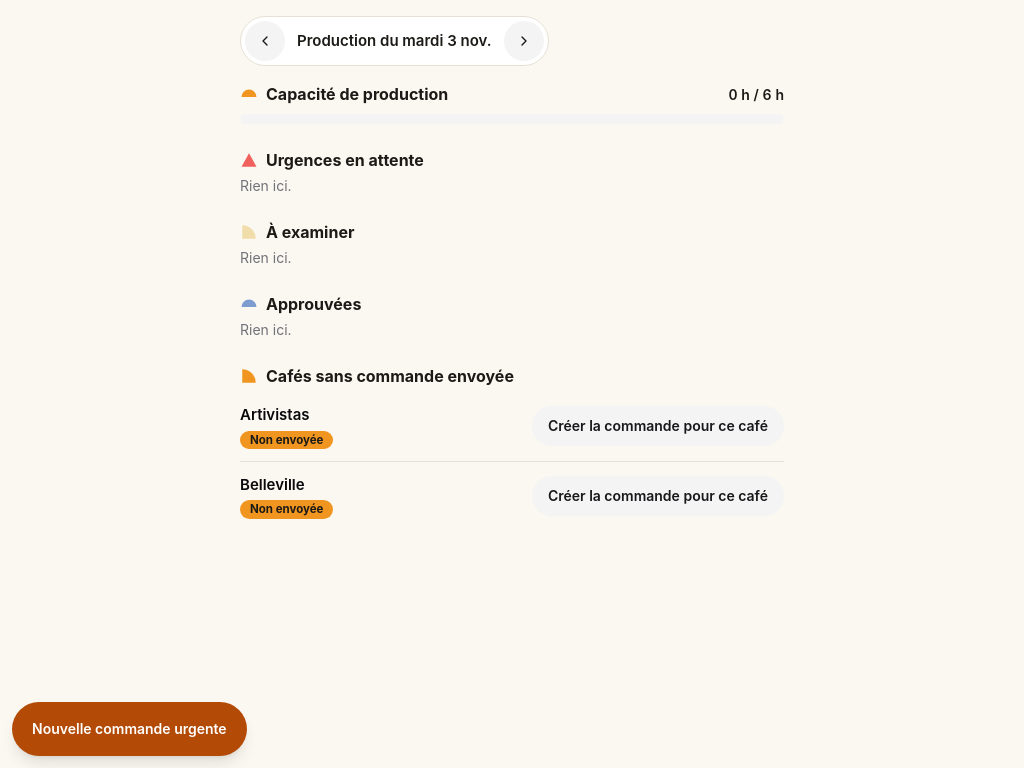
Test: StoresReview › round picker › steps previous/next and returns to the default with Prochaine
The width and height of the screenshot is (1024, 768).
Check: the button "Prochaine" is not shown
Click the button named "Tournée suivante". click: (524,41)
box: [504,21,544,61]
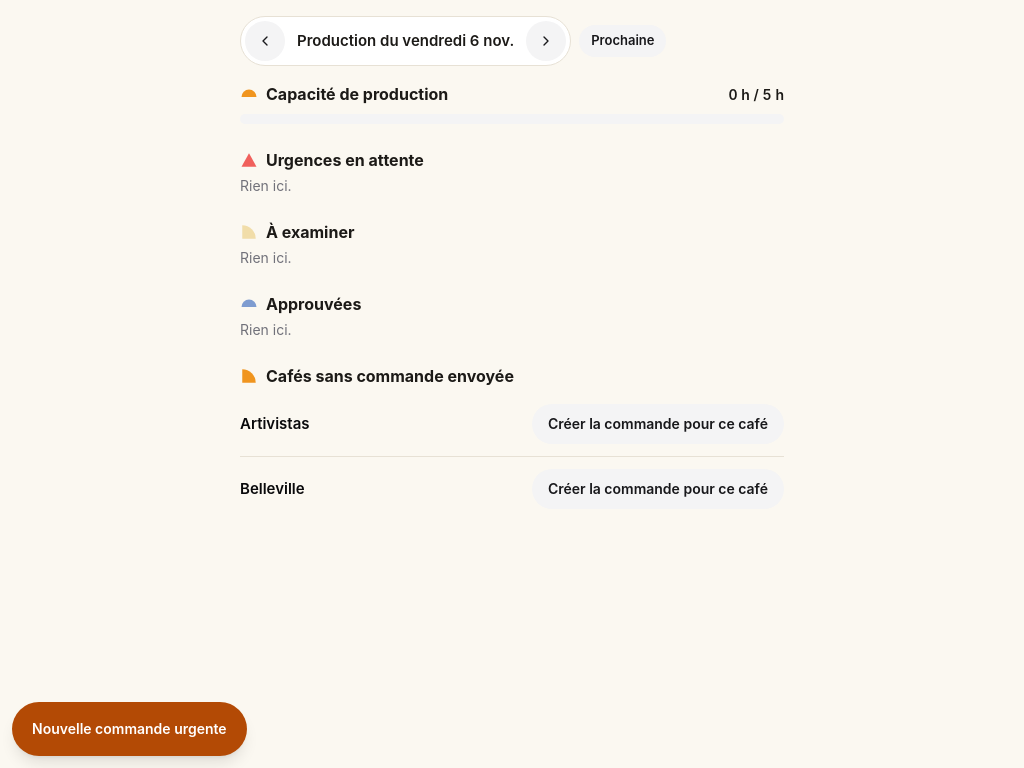
Check: the text "Production du vendredi 6 nov." is shown, box [289,30,522,52]
Click the button named "Tournée précédente". click: (265,41)
box: [245,21,285,61]
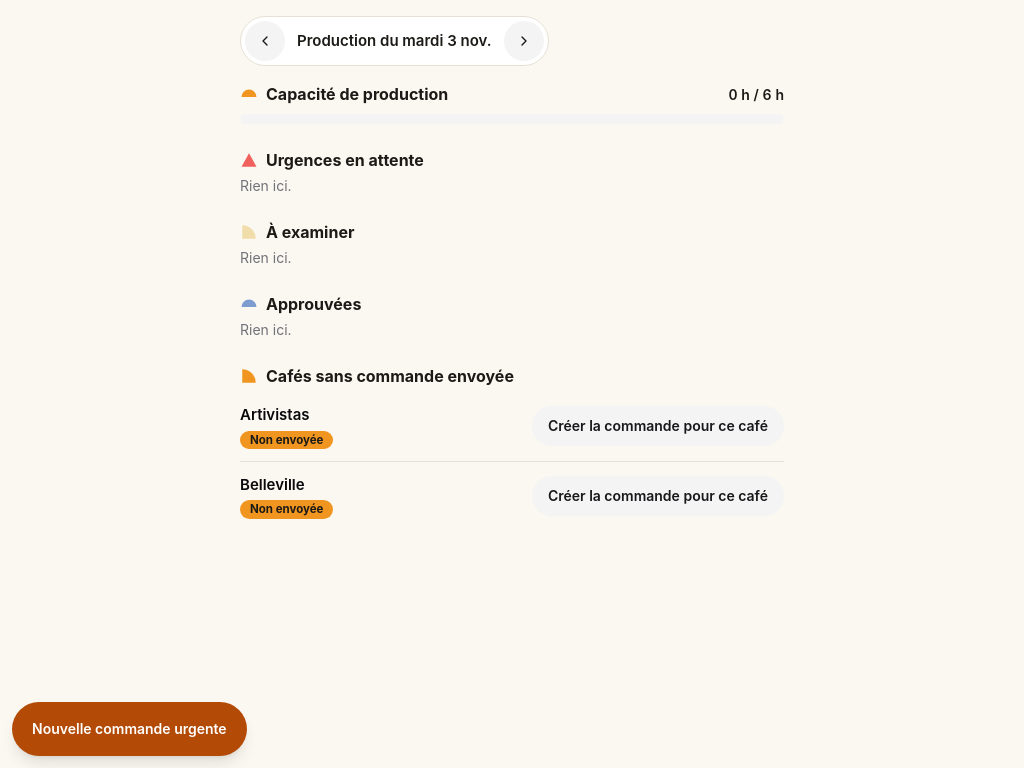
Click the button named "Tournée précédente". click: (265,41)
box: [245,21,285,61]
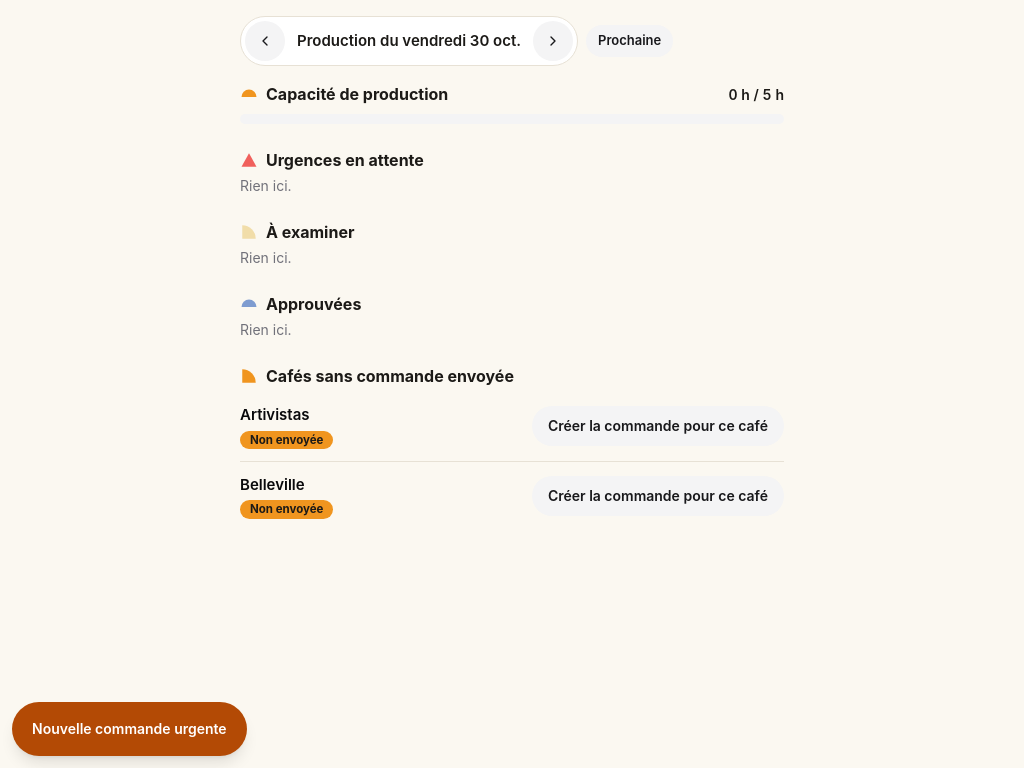
Check: the text "Production du vendredi 30 oct." is shown, box [289,30,529,52]
Click the button "Prochaine". click: (630,41)
box: [586,25,673,57]
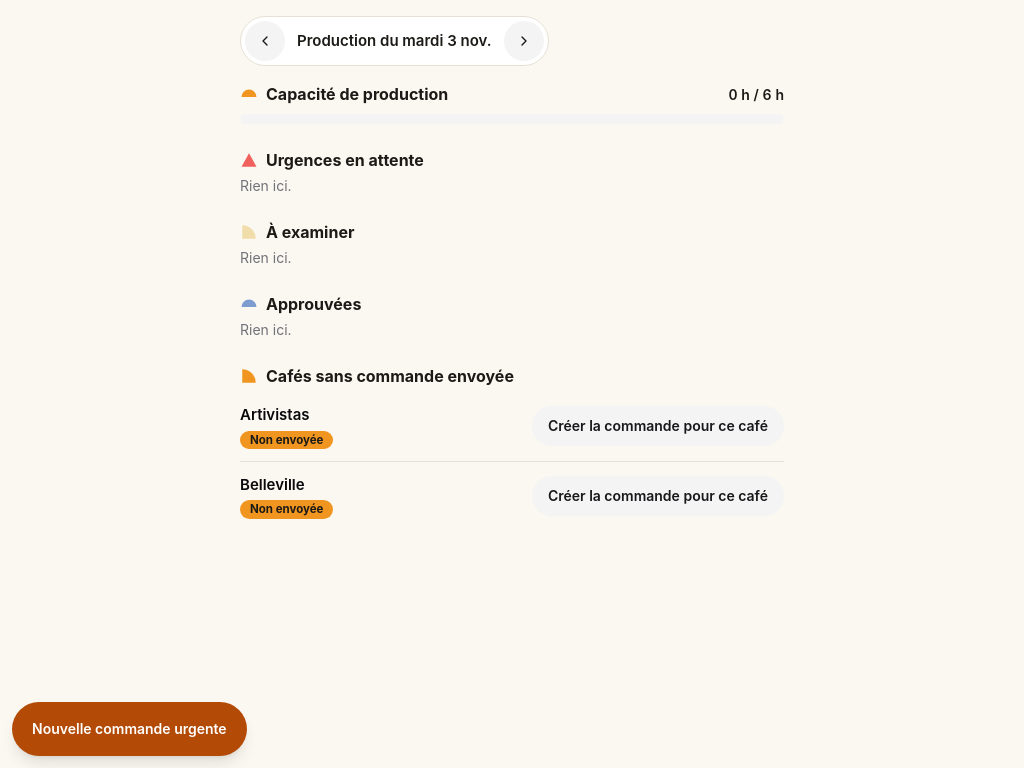
Check: the text "Production du mardi 3 nov." is shown, box [289,30,500,52]
